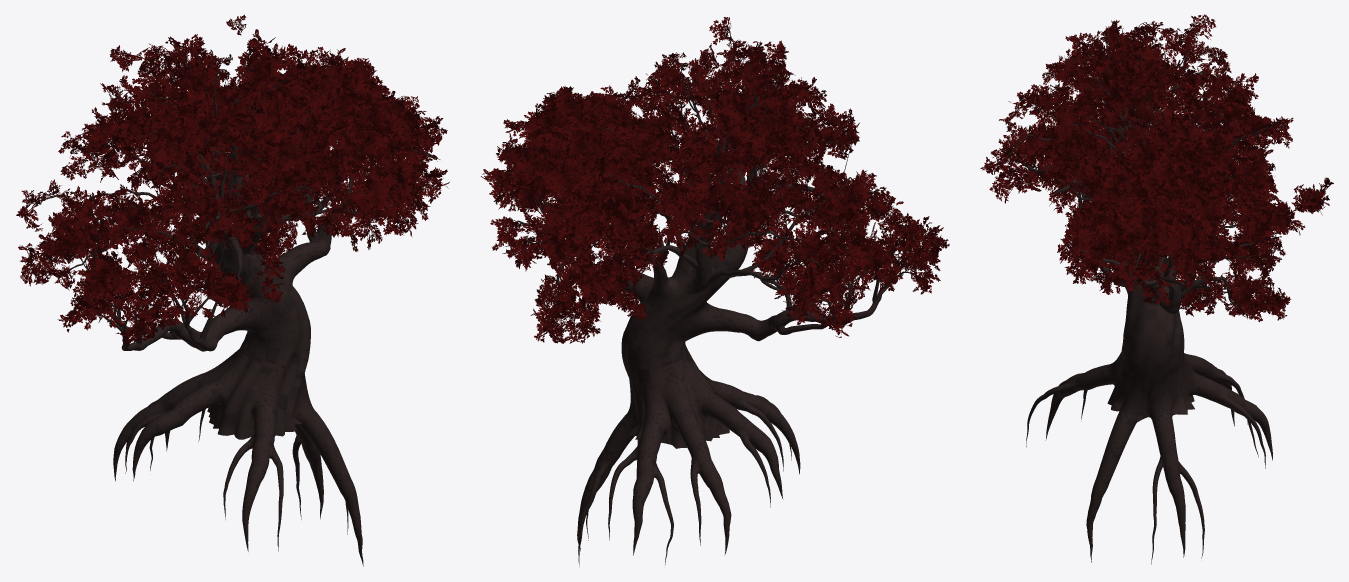
The picture shows the model from 3 angles, left to right: view 1: azimuth 30°, elevation 25°; view 2: azimuth 150°, elevation 25°; view 3: azimuth 270°, elevation 25°; orthographic projection. The views are drawn at different scales.
Parts seen in each view (by area): view 1: SM_Bloodwood_Tree_01_LOD0; view 2: SM_Bloodwood_Tree_01_LOD0; view 3: SM_Bloodwood_Tree_01_LOD0.
Boxes of the visible parts, x1=… form: SM_Bloodwood_Tree_01_LOD0: x1=16, y1=14, x2=449, y2=566; SM_Bloodwood_Tree_01_LOD0: x1=481, y1=17, x2=949, y2=566; SM_Bloodwood_Tree_01_LOD0: x1=980, y1=14, x2=1333, y2=564.
Size of the model in its own units: 23.6 by 29.7 by 19.56.
Materials: 2 (2 with a texture image).
